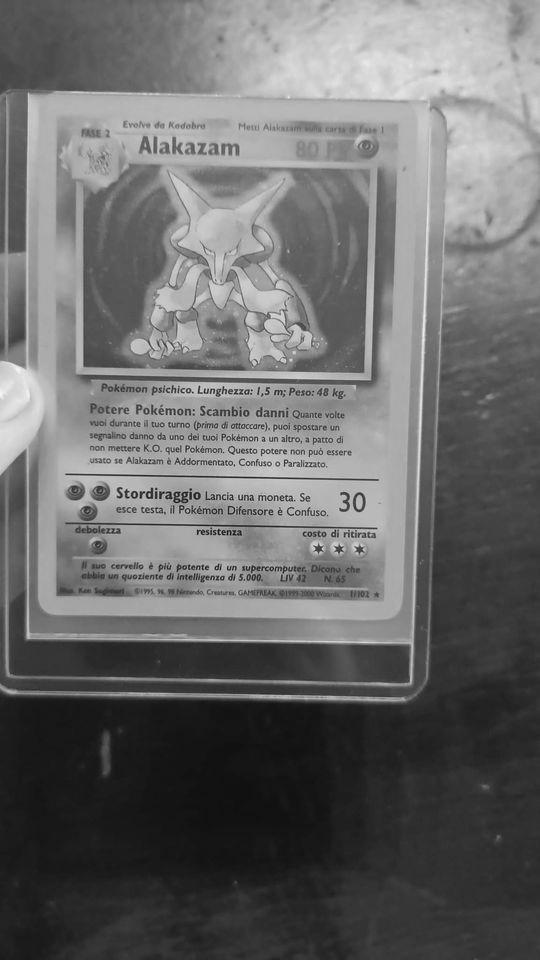card: (37, 92, 418, 623)
